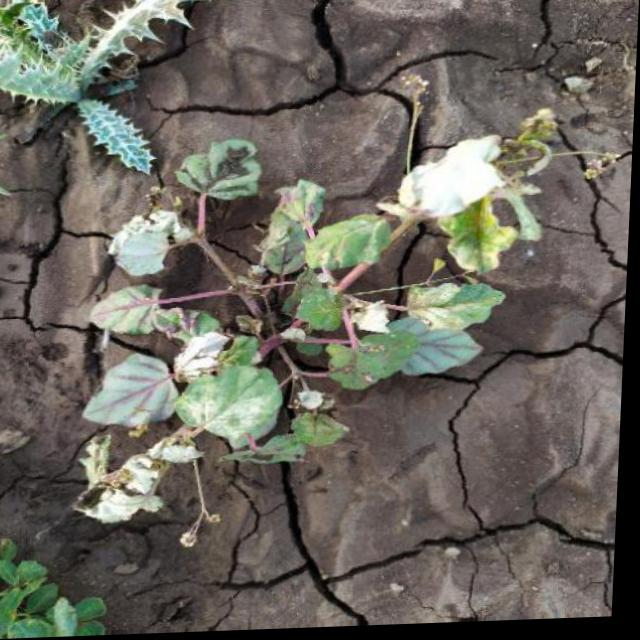weed: (59, 136, 527, 551), (0, 0, 226, 185)
